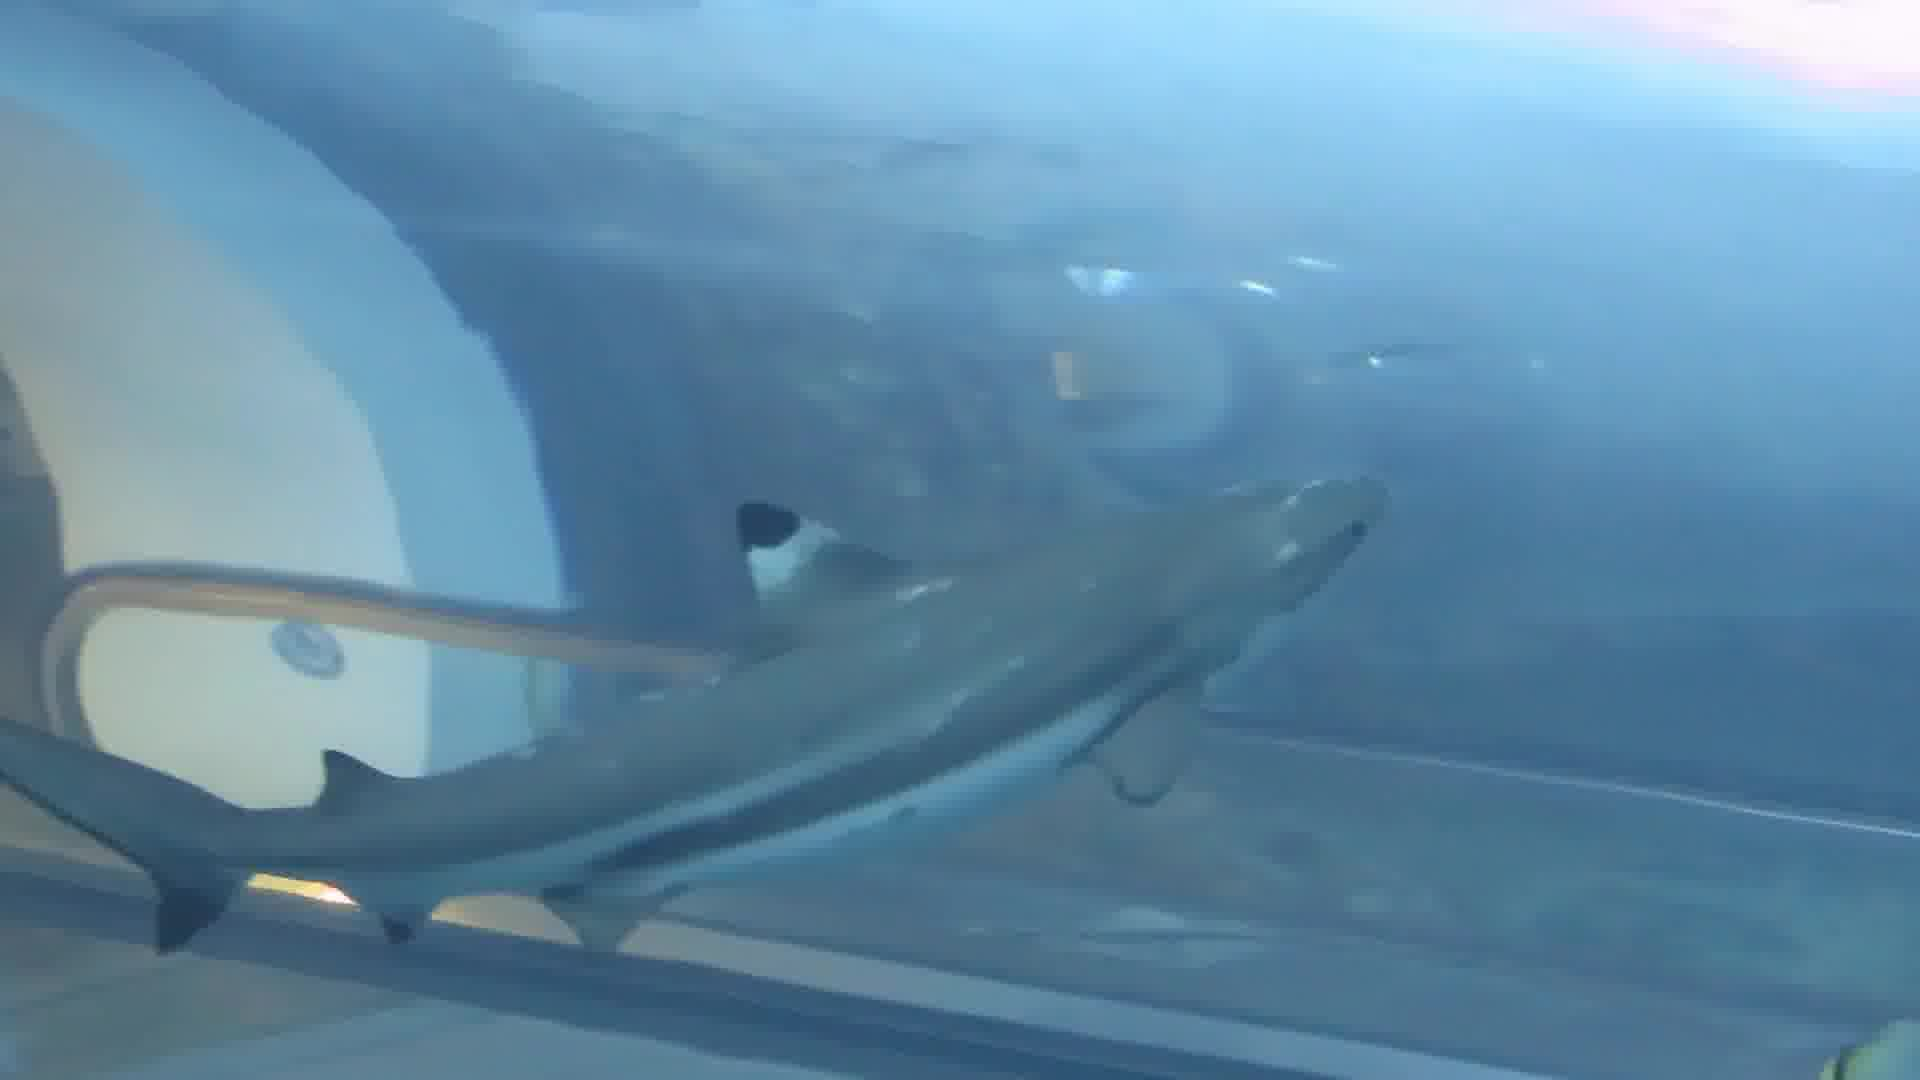Carcharhinus melanopterus: (36, 442, 1480, 934)
